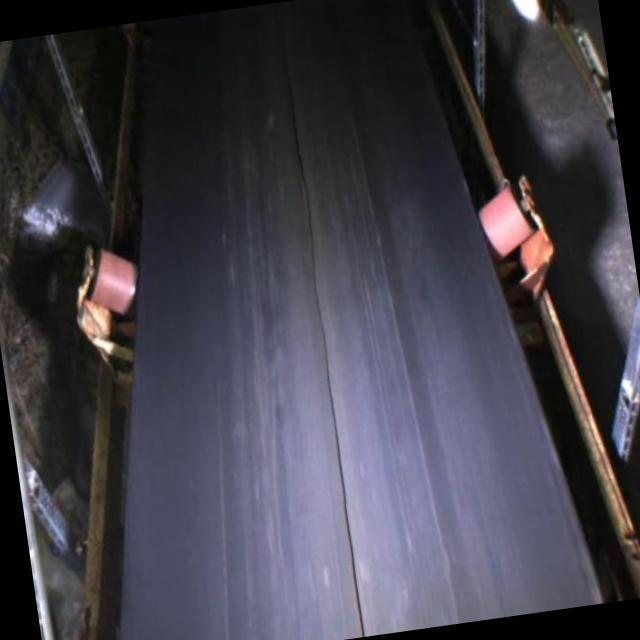Tear: (269, 0, 369, 640)
